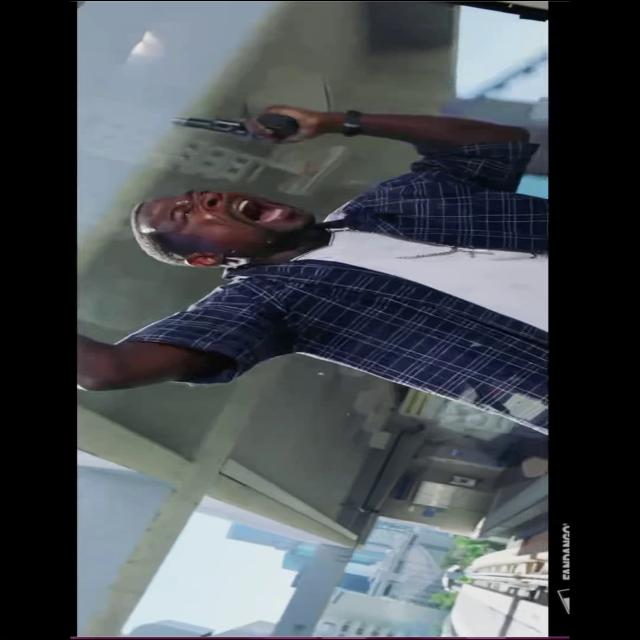weapons: (154, 105, 311, 145)
